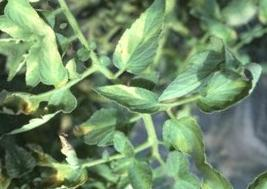Tomato mold leaf: (91, 0, 196, 84), (86, 58, 163, 136), (182, 54, 265, 122), (62, 98, 137, 163), (152, 104, 215, 174), (22, 31, 77, 90)
